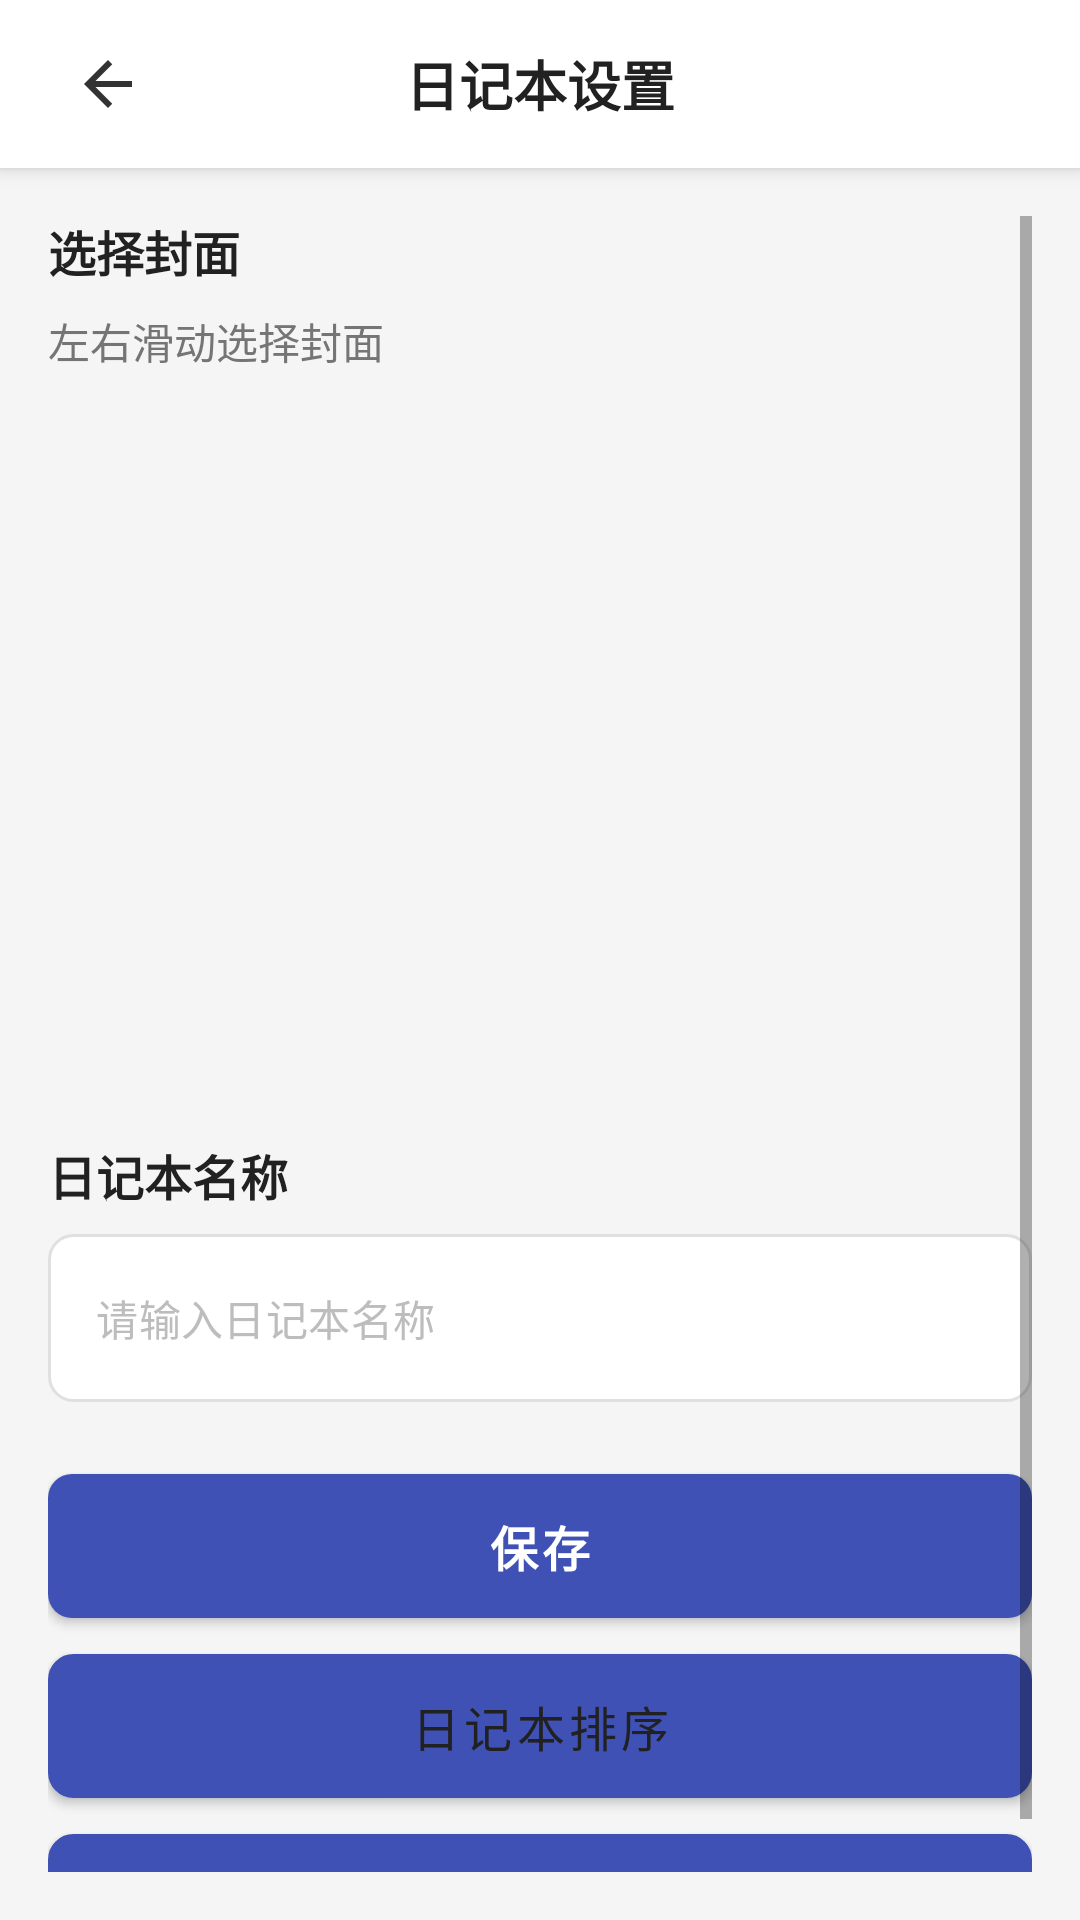

Screen size 1080×1920. Icon name, then its box in pixels as (x1, y1, x2, y2):
返回: (84, 60, 132, 108)
